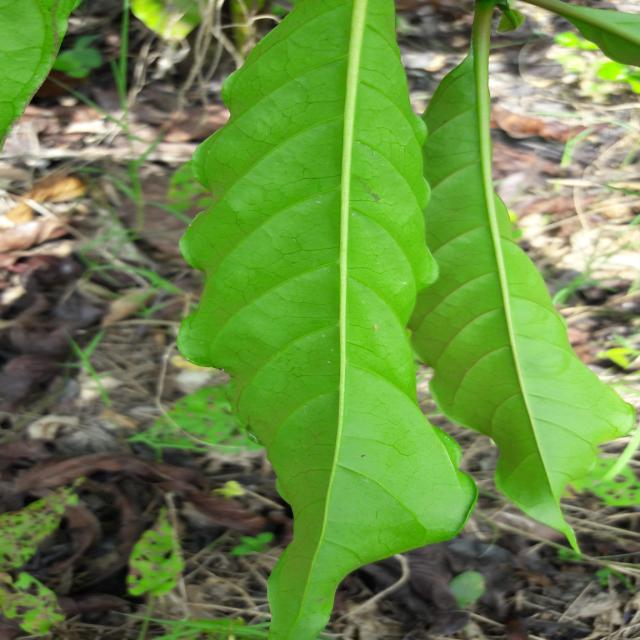Sanas: (174, 0, 492, 640)
